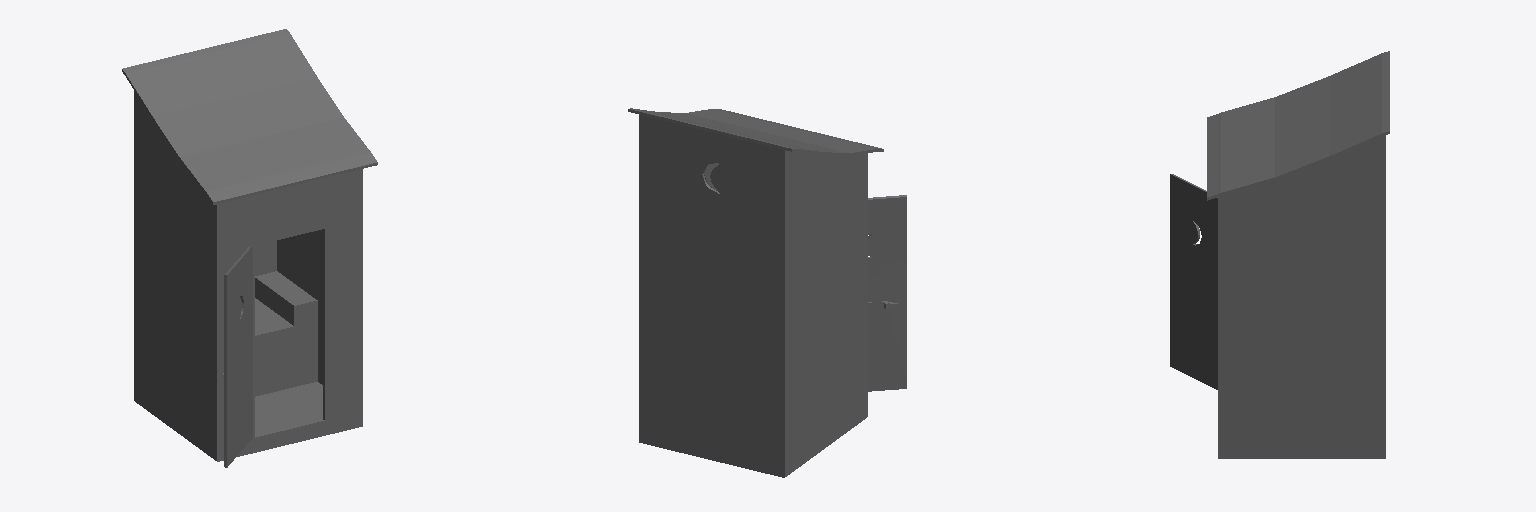
Rendered from outhouse.obj.
The picture shows the model from 3 angles: view 1: azimuth 30°, elevation 25°; view 2: azimuth 150°, elevation 25°; view 3: azimuth 270°, elevation 25°; orthographic projection.
Visible parts, largest first — view 1: bathroom, Door; view 2: bathroom, Door; view 3: bathroom, Door.
Boxes of the visible parts, box(x1,y1,x2,y2) form: bathroom: box(122, 29, 377, 461); Door: box(223, 246, 252, 467); bathroom: box(628, 108, 883, 477); Door: box(868, 195, 906, 391); bathroom: box(1207, 51, 1389, 458); Door: box(1170, 174, 1217, 389).
Bounding box in the file's own units: 176 × 329 × 196.